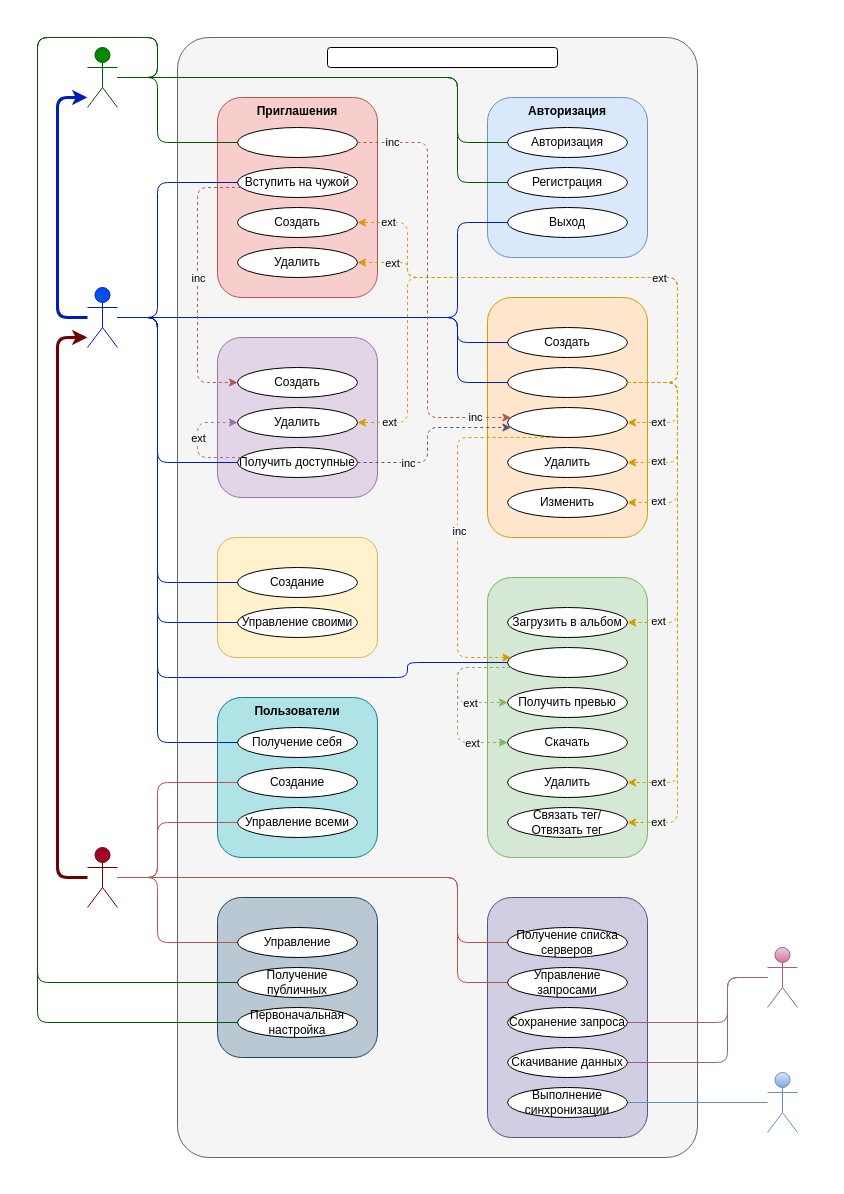
This 844x1194 diagram has some shape labels left out. Here are the shapes that lost their labels. From the top down, the box of each, then its label:
(86, 46, 118, 108): Гость
(326, 46, 558, 68): Система медиа-сервиса Wepicsync
(236, 126, 358, 158): Просмотреть публичное
(86, 286, 118, 348): Пользователь
(506, 366, 628, 398): Получить свои
(216, 336, 378, 498): Доступы
(486, 296, 648, 538): Альбомы
(506, 406, 628, 438): Просмотреть
(216, 536, 378, 658): Теги
(506, 646, 628, 678): Получить список
(486, 576, 648, 858): Медиафайлы
(86, 846, 118, 908): Администратор
(216, 896, 378, 1058): Настройки
(766, 946, 798, 1008): Другой экземпляр Wepicsync
(486, 896, 648, 1138): Синхронизация
(766, 1072, 798, 1132): Планировщик задач CRON
